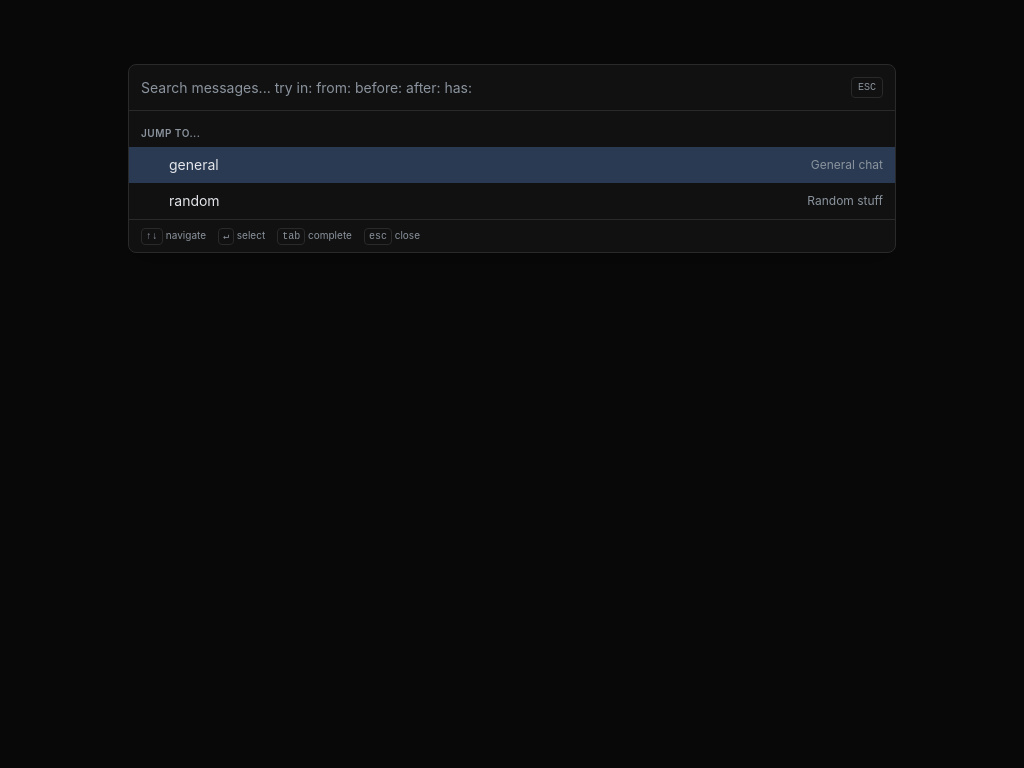
Scenario: SearchPanel › selecting autocomplete item creates a pill
Type "in:g" into the field with test id "search-input". click: (492, 88)
box: [141,78,843,98]
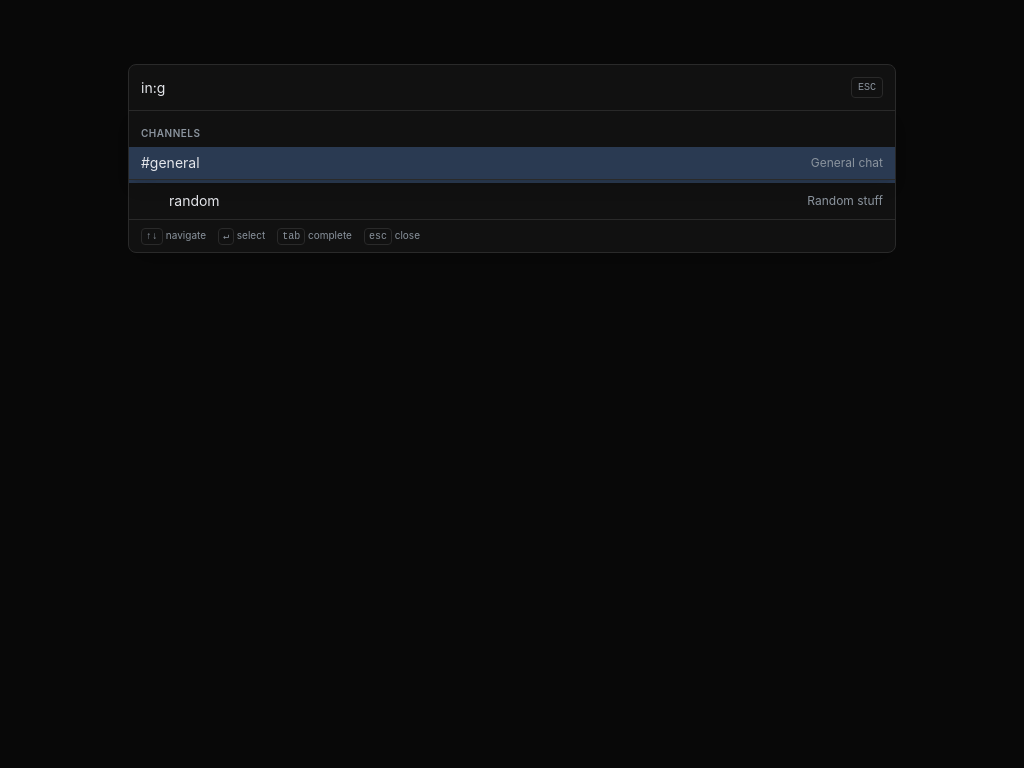
Click the first autocomplete item
Click the button with test id "ac-item". click: (170, 162)
box: [129,147,895,179]
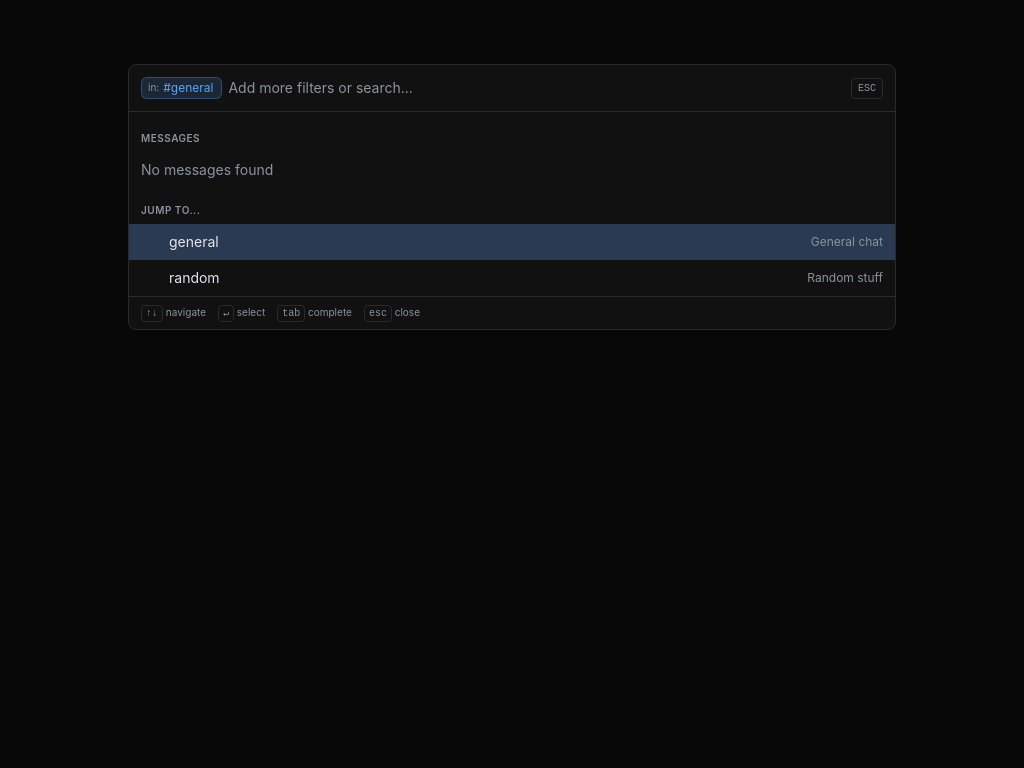
Result: the element with test id "search-pill" is shown at [141,77,222,99]
